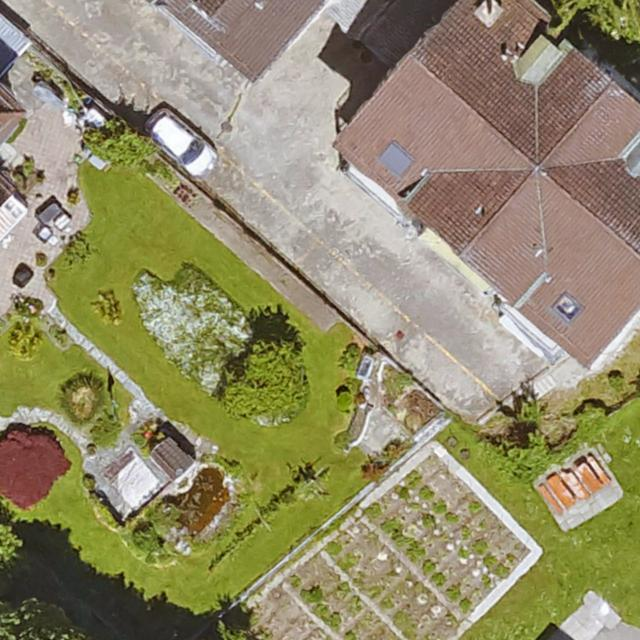tree: (224, 338, 309, 425), (0, 598, 111, 640), (499, 428, 550, 483), (0, 525, 25, 573)
